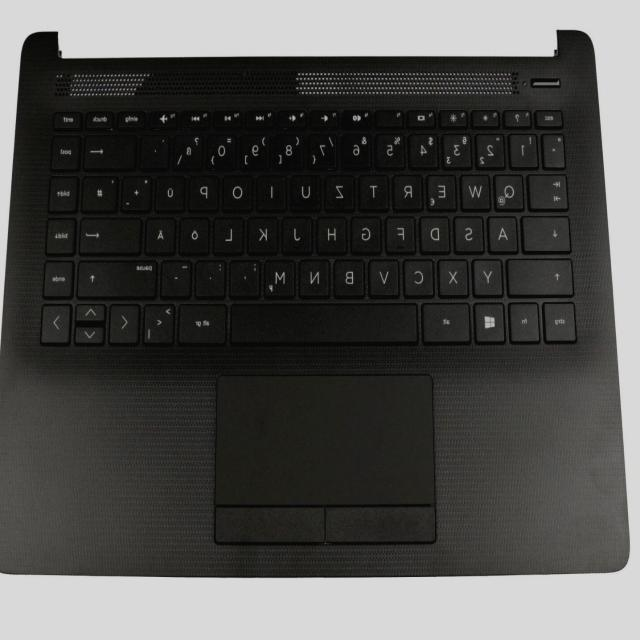0: (208, 131, 239, 168)
1: (510, 130, 540, 167)
2: (477, 131, 507, 167)
3: (444, 130, 475, 167)
4: (410, 131, 440, 167)
5: (377, 131, 408, 167)
6: (343, 130, 374, 167)
7: (309, 130, 339, 167)
8: (276, 130, 307, 167)
9: (242, 131, 272, 167)
a: (489, 213, 520, 251)
accent: (142, 131, 172, 168)
ae: (147, 215, 178, 253)
alt-left: (423, 300, 473, 342)
altgr-right: (179, 301, 230, 344)
b: (335, 257, 367, 295)
c: (405, 256, 437, 296)
caret: (544, 131, 568, 167)
comma: (232, 258, 263, 296)
d: (421, 213, 453, 253)
del: (86, 131, 138, 169)
e: (428, 171, 459, 209)
enter: (81, 215, 144, 253)
f: (387, 213, 418, 251)
g: (352, 214, 384, 252)
h: (318, 214, 349, 252)
hash: (82, 173, 120, 211)
i: (258, 171, 289, 209)
j: (284, 213, 315, 253)
k: (249, 214, 281, 252)
keyboard: (31, 97, 586, 357)
l: (215, 214, 246, 252)
m: (266, 256, 298, 296)
minus: (163, 258, 195, 296)
n: (300, 256, 332, 296)
o: (224, 172, 256, 210)
oe: (181, 215, 212, 253)
p: (191, 172, 221, 210)
plus: (123, 172, 154, 210)
point: (197, 258, 229, 296)
q: (495, 171, 527, 209)
r: (394, 171, 425, 209)
s: (455, 214, 486, 252)
shift-left: (508, 255, 576, 295)
shift-lock: (524, 213, 574, 251)
shift-right: (79, 257, 160, 297)
space: (232, 300, 421, 344)
ss: (175, 131, 205, 167)
strg-left: (544, 299, 579, 341)
t: (361, 171, 391, 209)
tab: (530, 170, 571, 208)
u: (292, 172, 323, 210)
ue: (157, 172, 187, 210)
v: (370, 257, 402, 295)
w: (462, 171, 493, 209)
x: (440, 256, 471, 294)
y: (474, 256, 505, 296)
z: (326, 171, 357, 209)
